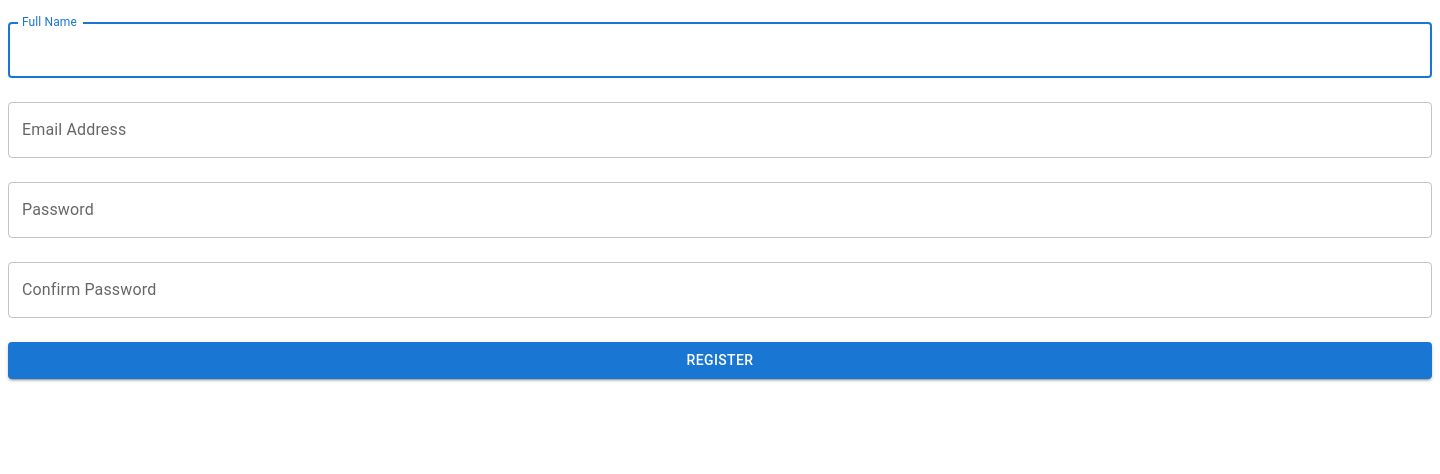
Test case: Register › submit with no input
when submitting with no input, validation should show
Click the button "Register" at (720, 360), box top-left (8, 342), bottom-right (1432, 378)
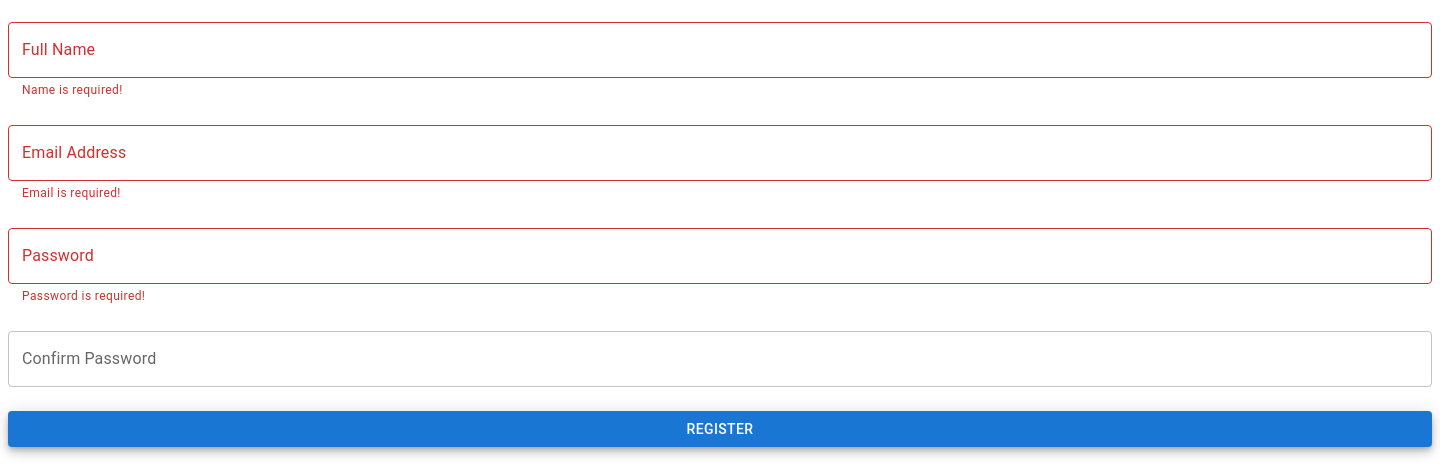
Now the text "Name is required!" is shown, box top-left (22, 83), bottom-right (123, 97)
Now the text "Email is required!" is shown, box top-left (22, 186), bottom-right (121, 200)
Now the text "Password is required!" is shown, box top-left (22, 289), bottom-right (145, 303)
